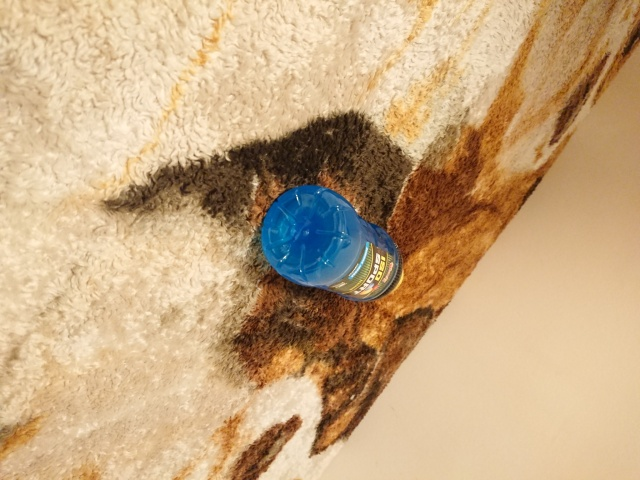Vindi Iso Sport Forest Strawberries 500mL: (257, 182, 406, 303)
